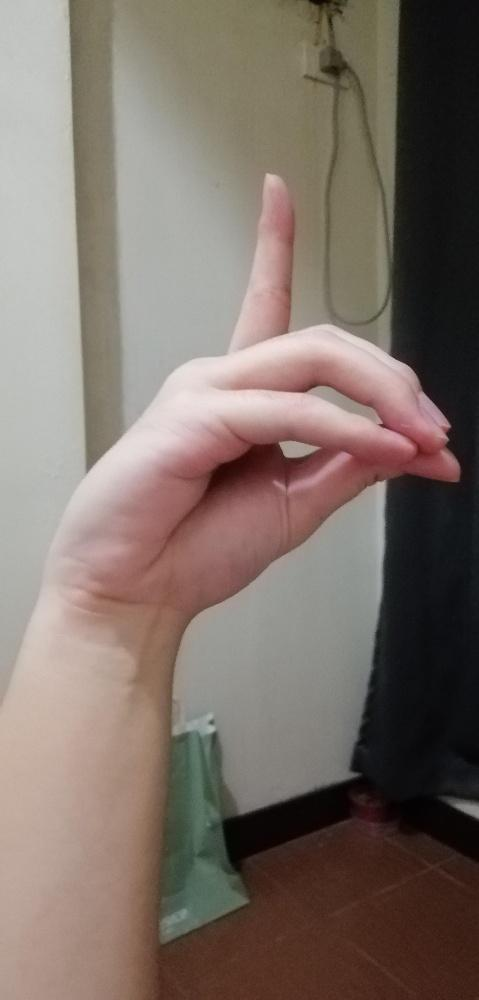d: (47, 171, 462, 593)
